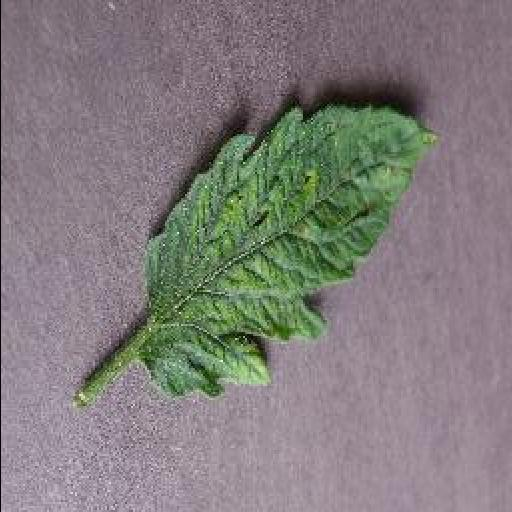Mosaic Virus: (139, 102, 445, 402)
